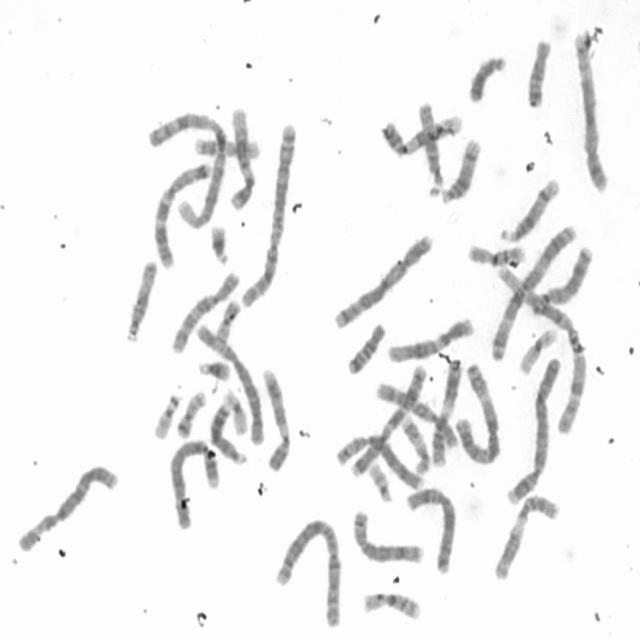A1: (492, 255, 590, 438), (143, 103, 230, 232)
A2: (239, 119, 299, 309), (272, 513, 346, 630)
A3: (487, 218, 581, 361), (453, 358, 504, 468)
B4: (502, 350, 563, 507), (166, 435, 222, 533)
B5: (330, 228, 436, 330), (570, 24, 612, 195)
C10: (167, 265, 243, 356), (372, 377, 461, 452)
C11: (490, 488, 562, 582), (428, 352, 464, 468)
C12: (384, 312, 476, 364), (228, 101, 258, 210)
C6: (13, 457, 120, 555), (193, 319, 267, 447)
C7: (342, 357, 430, 478), (148, 157, 214, 271)
C8: (331, 428, 425, 492), (350, 504, 428, 566)
C9: (378, 108, 466, 158), (258, 363, 294, 474)
D13: (534, 240, 596, 311), (208, 396, 250, 466)
D14: (497, 172, 562, 244), (437, 132, 484, 206)
D15: (122, 254, 160, 344), (414, 96, 446, 198)
E16: (359, 585, 424, 622), (464, 238, 528, 268)
E17: (398, 412, 431, 476), (190, 132, 262, 160)
E18: (343, 317, 387, 376), (523, 33, 554, 109)
F19: (514, 322, 560, 374), (220, 384, 250, 436)
F20: (173, 384, 209, 439), (212, 295, 242, 344)
G21: (206, 218, 232, 266), (195, 354, 233, 382)
G22: (150, 388, 183, 441), (364, 458, 396, 503)
X: (403, 482, 459, 576)
Y: (465, 50, 509, 104)
